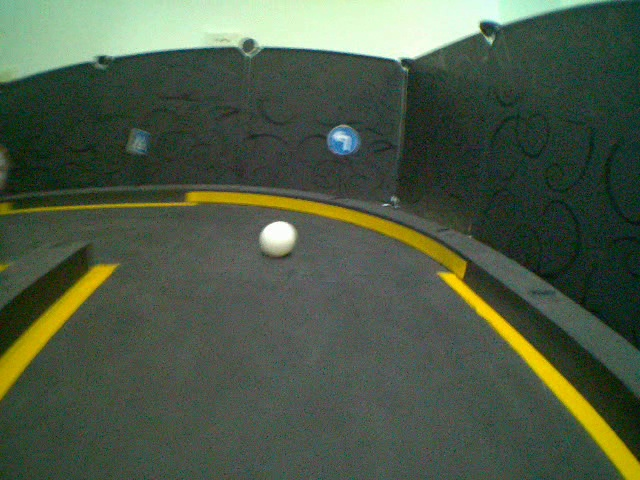ball: (259, 220, 299, 257)
